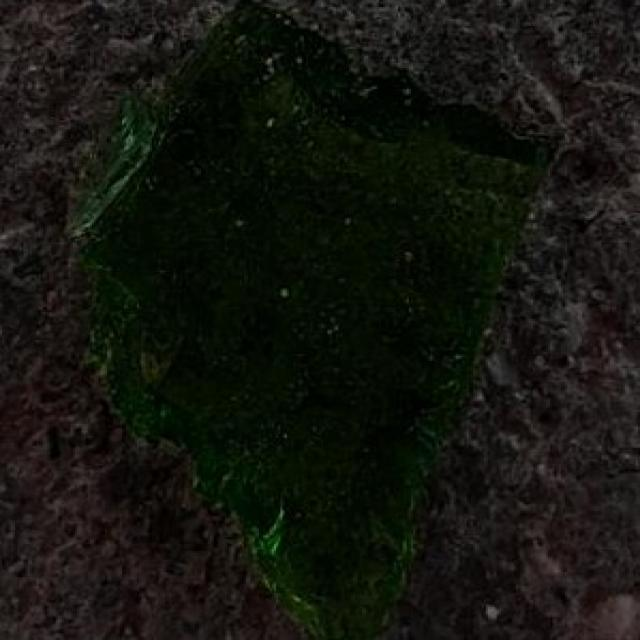Dry: (71, 92, 501, 392), (125, 372, 457, 455), (203, 445, 422, 543), (177, 8, 335, 120), (261, 538, 404, 640), (488, 128, 552, 212)
